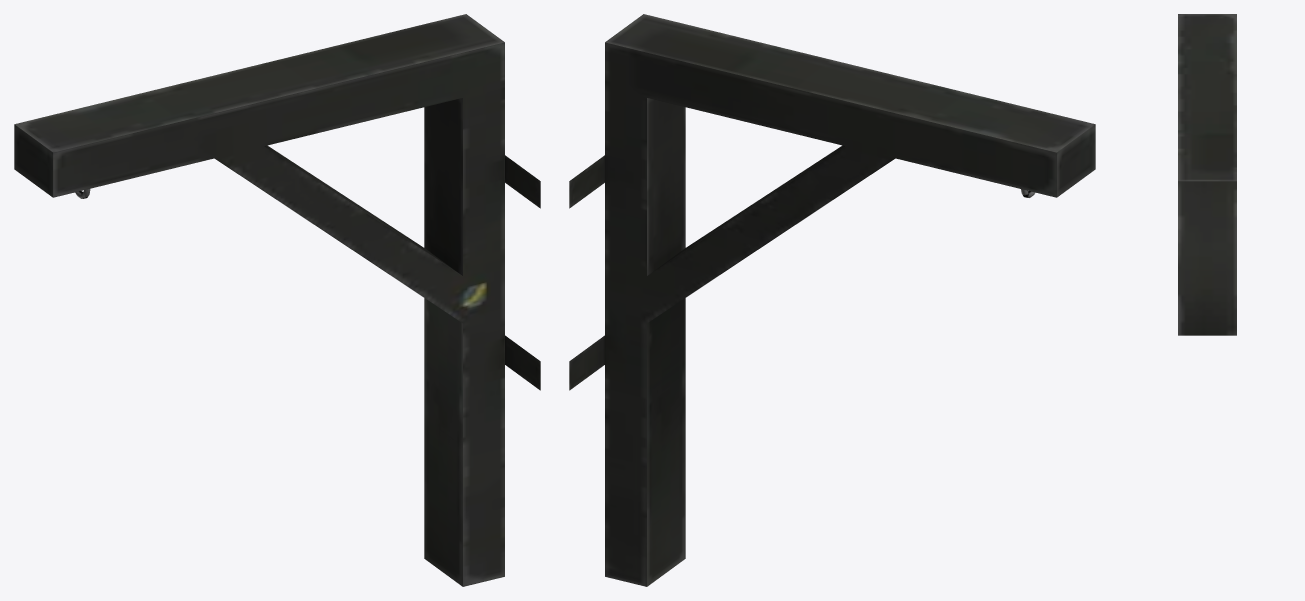
The picture shows the model from 3 angles, left to right: view 1: azimuth 30°, elevation 25°; view 2: azimuth 150°, elevation 25°; view 3: azimuth 270°, elevation 25°; orthographic projection. The views are drawn at different scales.
Parts seen in each view (by area): view 1: body0_model0_lod0_mesh0; view 2: body0_model0_lod0_mesh0; view 3: body0_model0_lod0_mesh0.
Boxes of the visible parts, x1=… form: body0_model0_lod0_mesh0: x1=14, y1=14, x2=540, y2=586; body0_model0_lod0_mesh0: x1=569, y1=14, x2=1095, y2=586; body0_model0_lod0_mesh0: x1=1178, y1=14, x2=1236, y2=335.
Size of the model in its own units: 43.79 by 49.47 by 18.45.
1 material, 1 textured.
